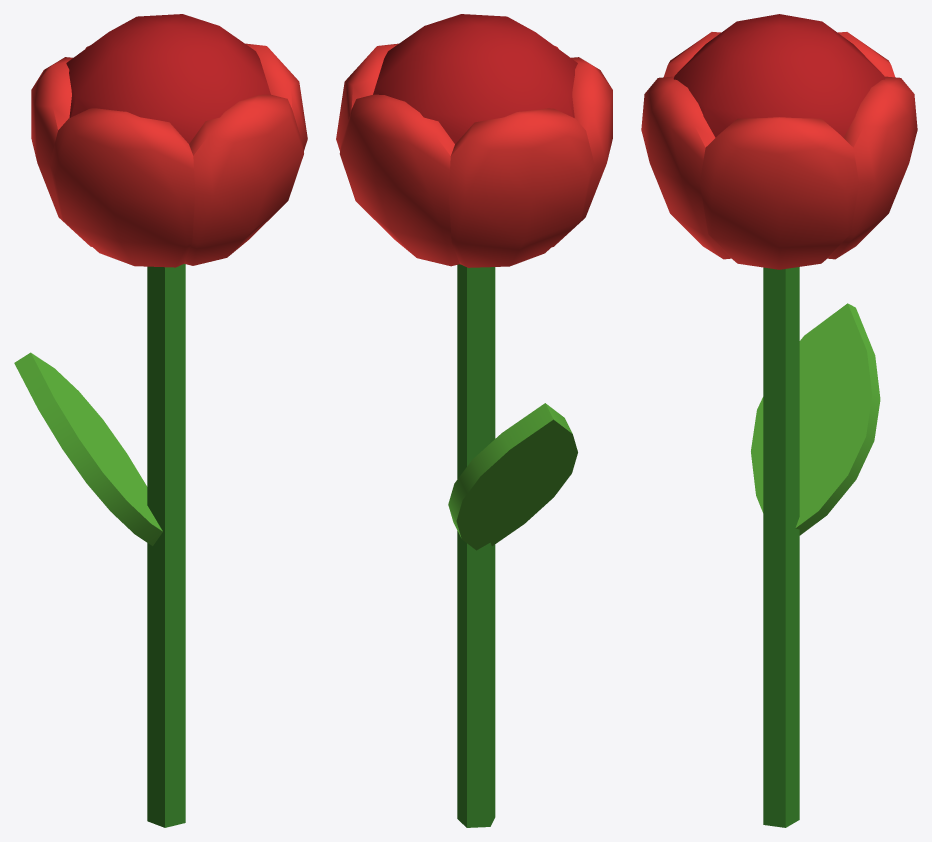
The model's file is Rose.fbx.
3 views of the same model, side by side, from view 1: azimuth 30°, elevation 25°; view 2: azimuth 150°, elevation 25°; view 3: azimuth 270°, elevation 25° (orthographic).
Parts seen in each view (by area): view 1: Rose; view 2: Rose; view 3: Rose.
Part boxes in pixels (left/top/right/bottom): Rose: left=14, top=14, right=307, bottom=827; Rose: left=336, top=14, right=612, bottom=827; Rose: left=641, top=14, right=917, bottom=827.
Bounding box in the file's own units: 0.5473 × 1.74 × 0.5479.
Materials: 1 (1 with a texture image).
